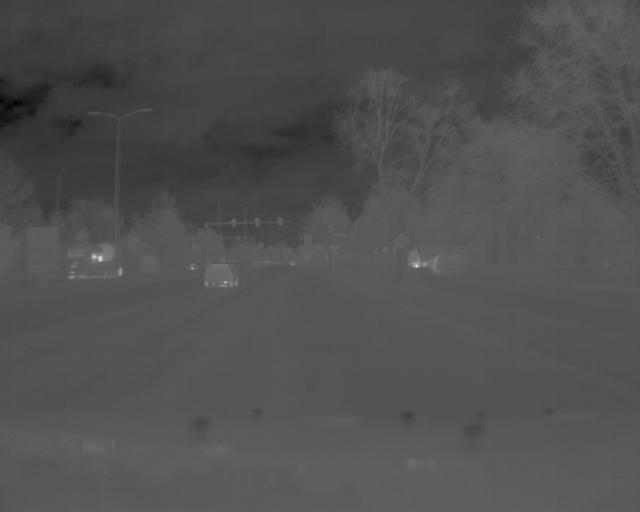car: (65, 238, 124, 281), (407, 243, 465, 264), (205, 262, 237, 289)
